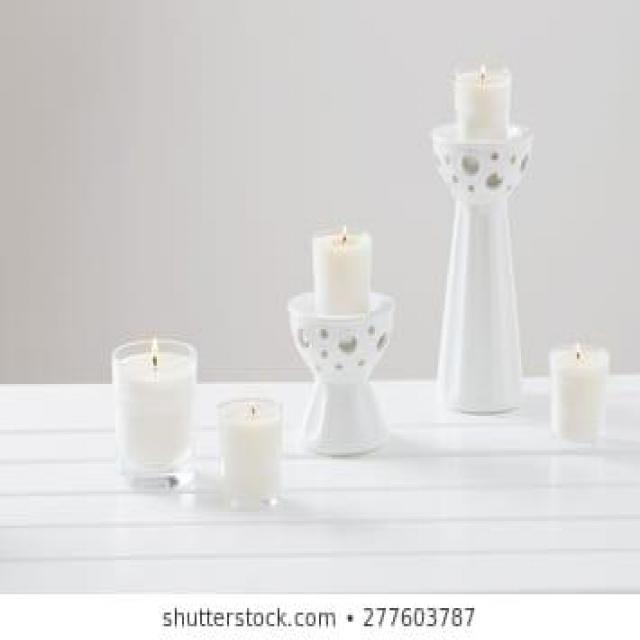Fire: (152, 334, 158, 356), (479, 64, 486, 80), (575, 343, 582, 356), (342, 224, 347, 242)
